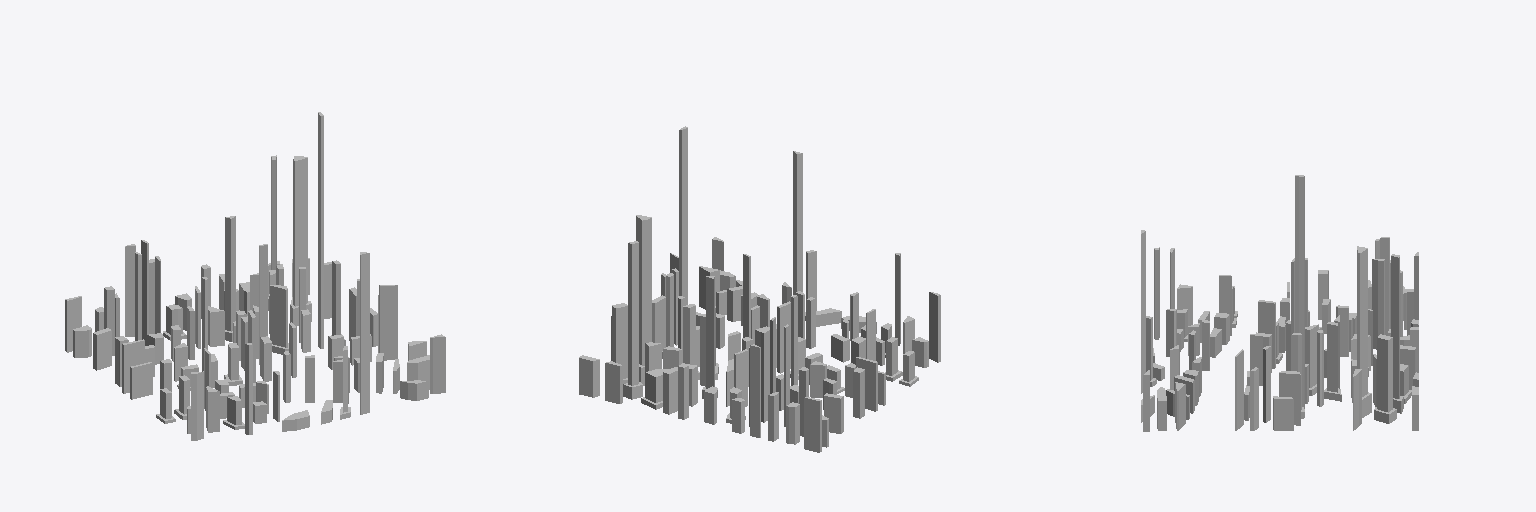
The model's file is buildings_00066.obj.
3 renders of one model, left to right at view 1: azimuth 30°, elevation 25°; view 2: azimuth 150°, elevation 25°; view 3: azimuth 270°, elevation 25°, orthographic.
Bounding box in the file's own units: 1468 × 1350 × 1460.